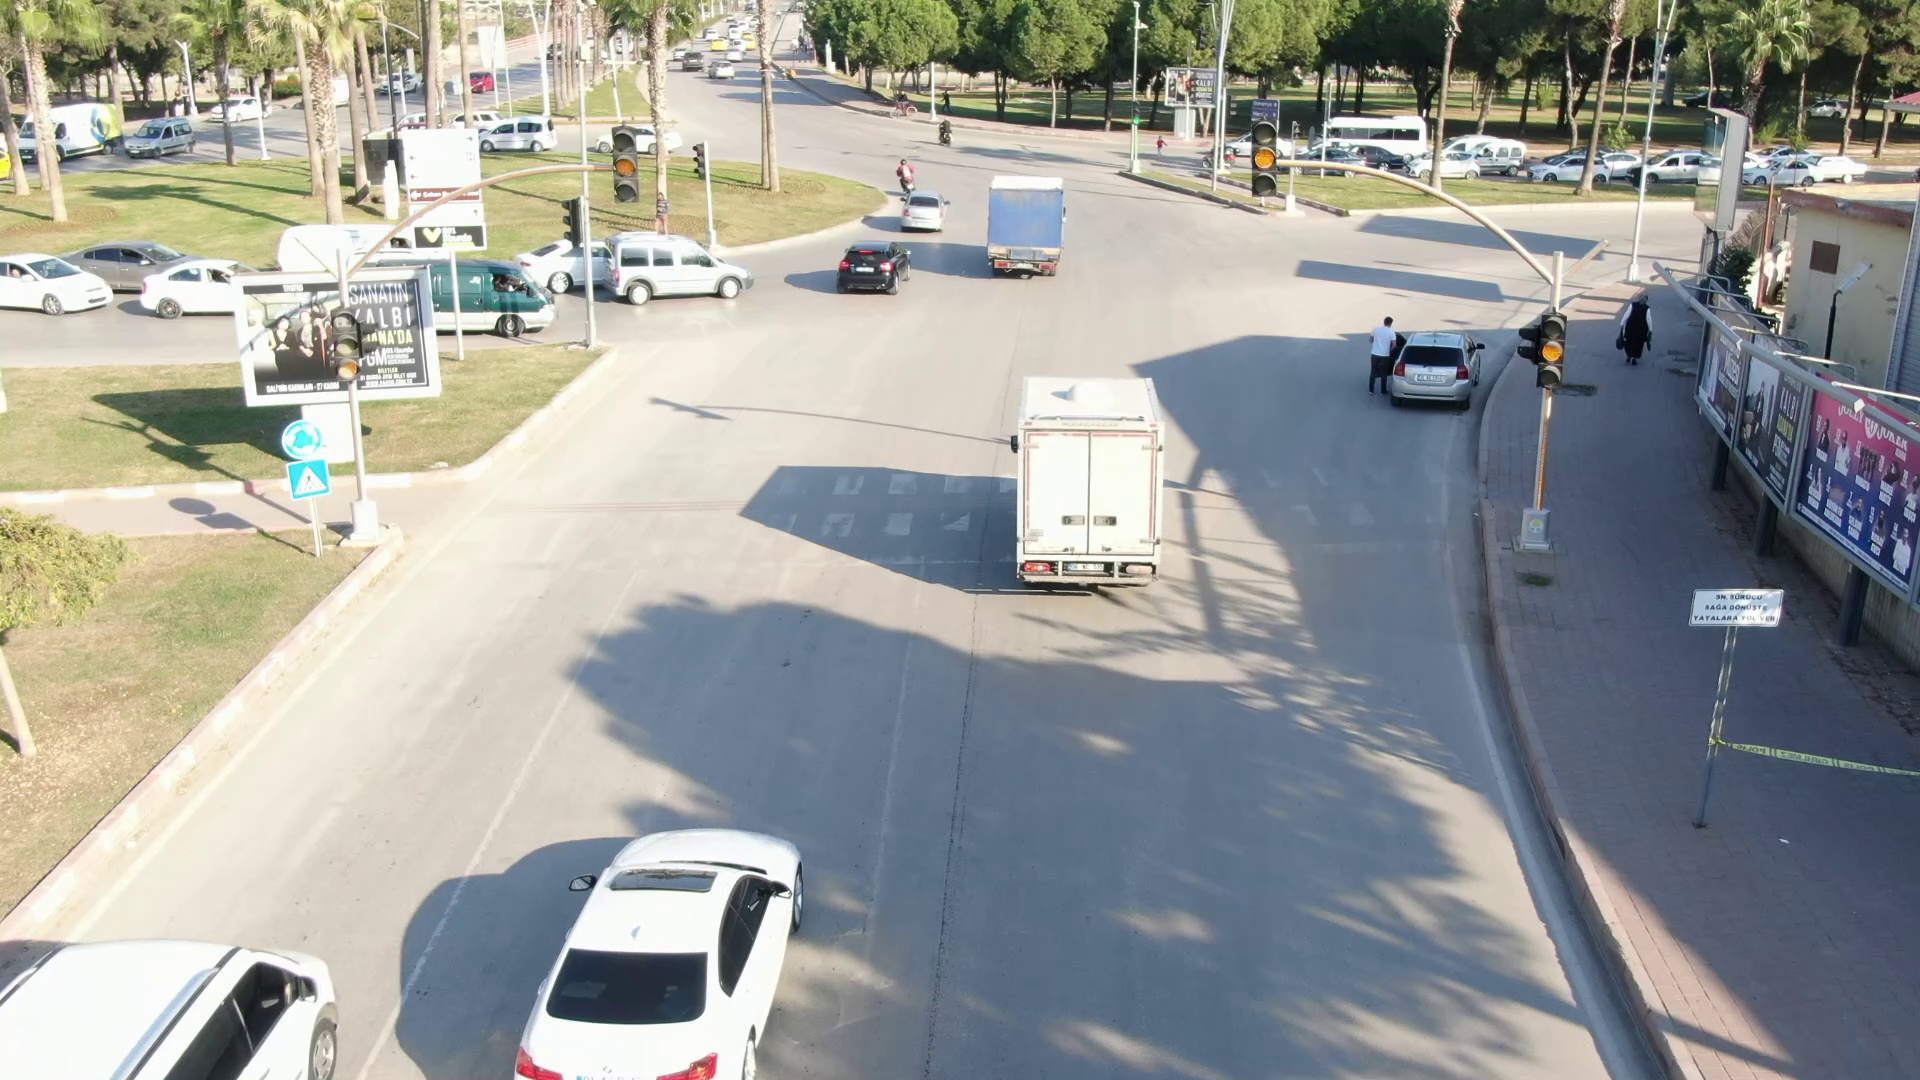car: (497, 778, 867, 1080), (982, 356, 1210, 610), (602, 224, 760, 313), (973, 167, 1080, 284), (1394, 326, 1487, 407), (826, 232, 920, 301), (1522, 149, 1616, 186), (895, 185, 956, 234)
person: (1365, 310, 1403, 407), (1617, 290, 1660, 370)
